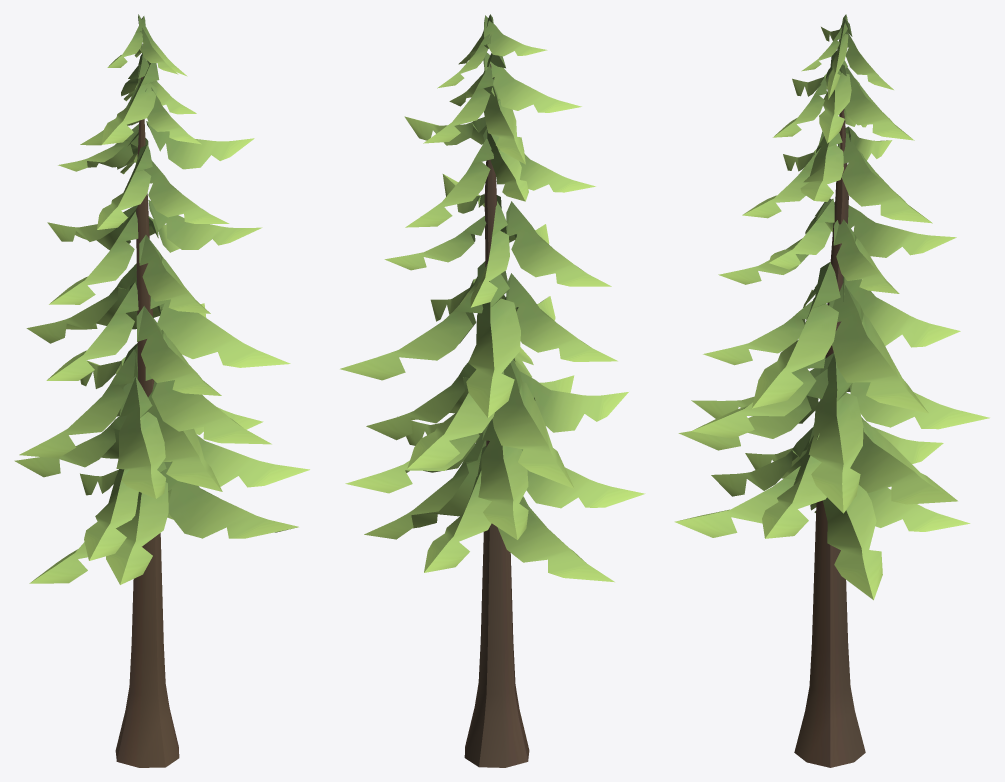
Rendered from Tree01.gltf.
3 views of the same model, side by side, from view 1: azimuth 30°, elevation 25°; view 2: azimuth 150°, elevation 25°; view 3: azimuth 270°, elevation 25° (orthographic).
Parts seen in each view (by area): view 1: default2_Material_0.001; view 2: default2_Material_0.001; view 3: default2_Material_0.001.
Boxes of the visible parts, <box> form: default2_Material_0.001: <box>14,14,309,767</box>; default2_Material_0.001: <box>340,14,645,767</box>; default2_Material_0.001: <box>674,14,989,767</box>.
Size of the model in its own units: 2.44 by 6.89 by 2.68.
1 material, 1 textured.
